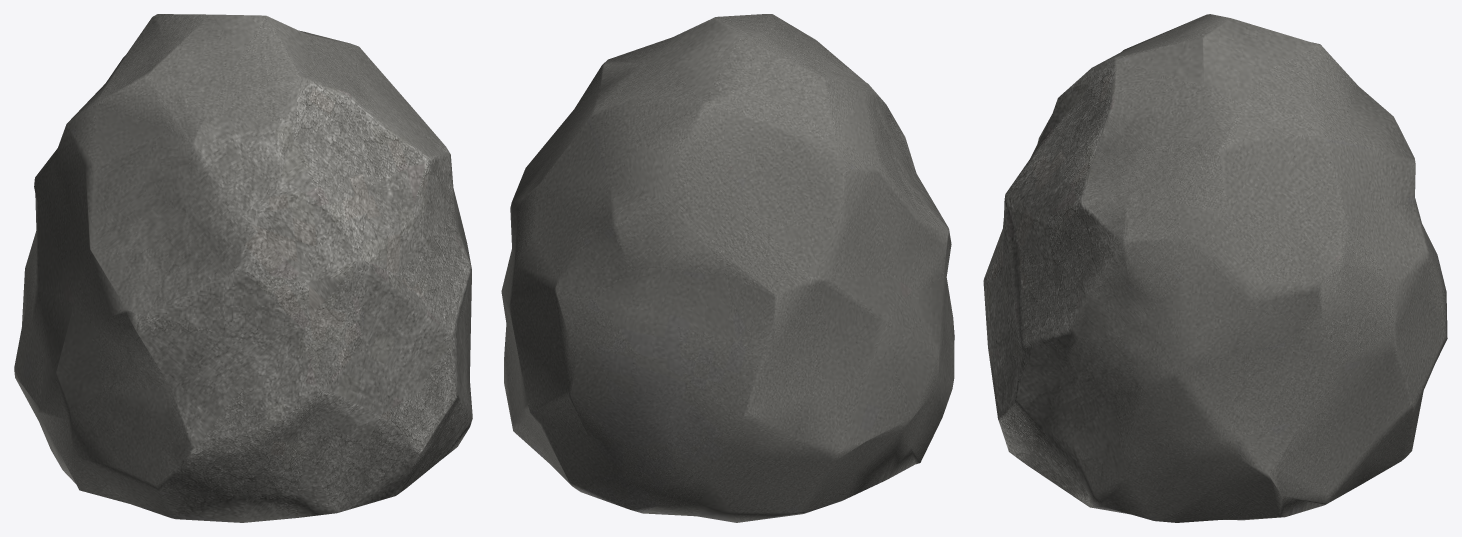
3 renders of one model, left to right at view 1: azimuth 30°, elevation 25°; view 2: azimuth 150°, elevation 25°; view 3: azimuth 270°, elevation 25°, orthographic. The views are drawn at different scales.
Parts seen in each view (by area): view 1: mesh_node; view 2: mesh_node; view 3: mesh_node.
Part boxes in pixels (x1,y1,x2,y2): mesh_node: (14,14,472,522); mesh_node: (501,14,954,522); mesh_node: (983,14,1447,522).
Bounding box in the file's own units: 1.96 × 2 × 2.
1 material, 1 textured.
